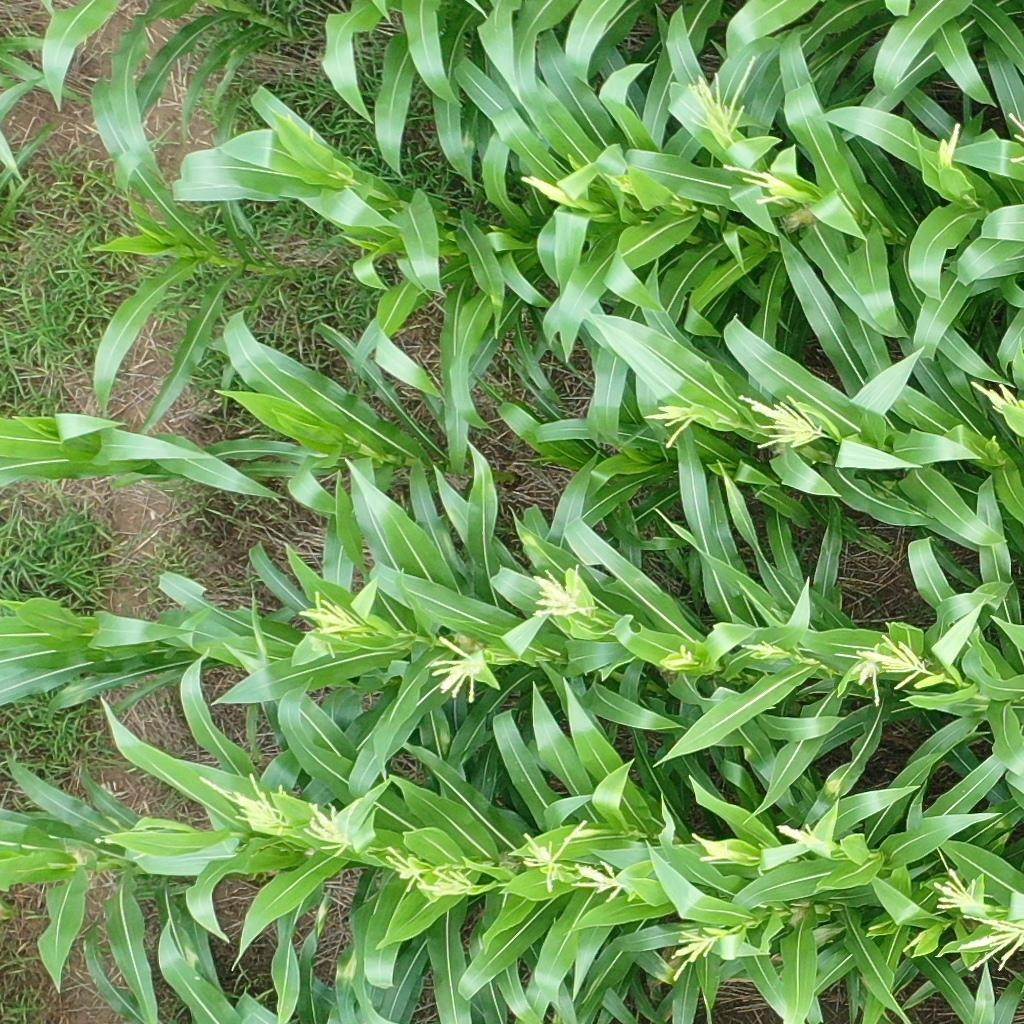Tassel: (515, 822, 639, 905), (674, 56, 760, 154), (832, 635, 929, 706), (197, 771, 291, 838), (739, 393, 833, 453), (296, 590, 375, 658), (381, 847, 479, 895), (949, 915, 1024, 972), (428, 633, 489, 702), (665, 924, 734, 981), (722, 164, 797, 209), (642, 401, 709, 449), (304, 803, 363, 856), (531, 562, 587, 617), (931, 867, 989, 911), (519, 175, 578, 211), (967, 380, 1023, 414), (686, 830, 746, 861), (781, 819, 829, 857), (739, 635, 790, 661), (936, 122, 960, 172), (603, 172, 643, 198), (1008, 109, 1024, 165), (662, 644, 696, 670)
